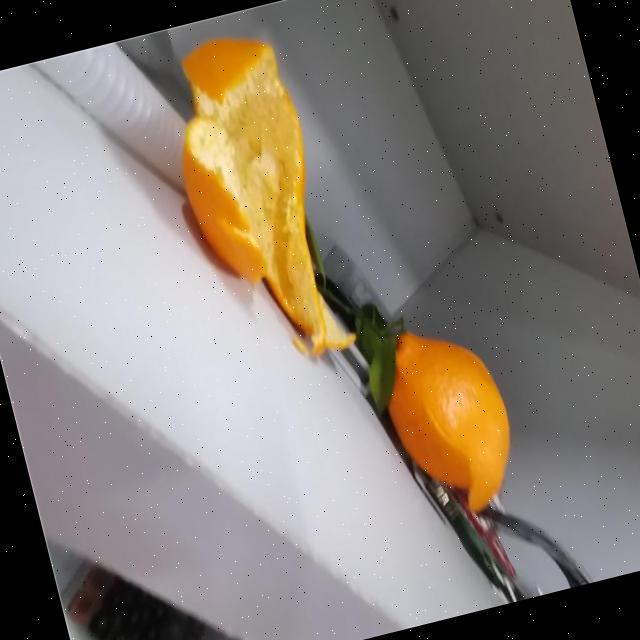orange-peel: (148, 21, 358, 378), (368, 310, 528, 528)
